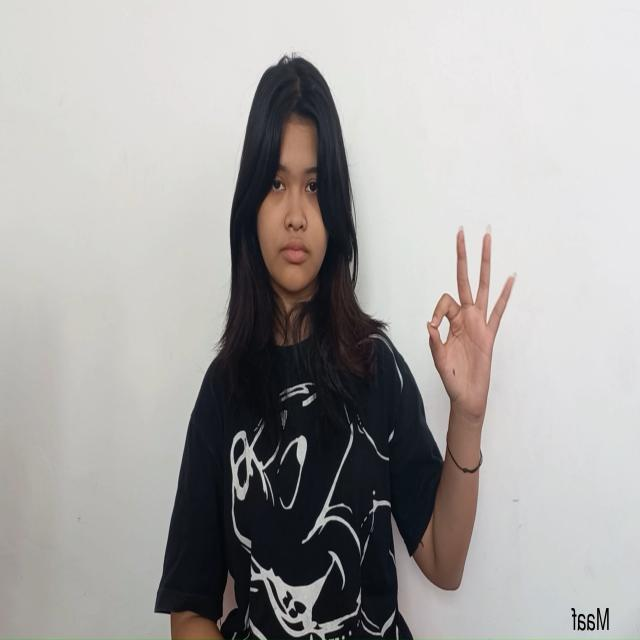Maaf -BISINDO-: (425, 221, 518, 437)
